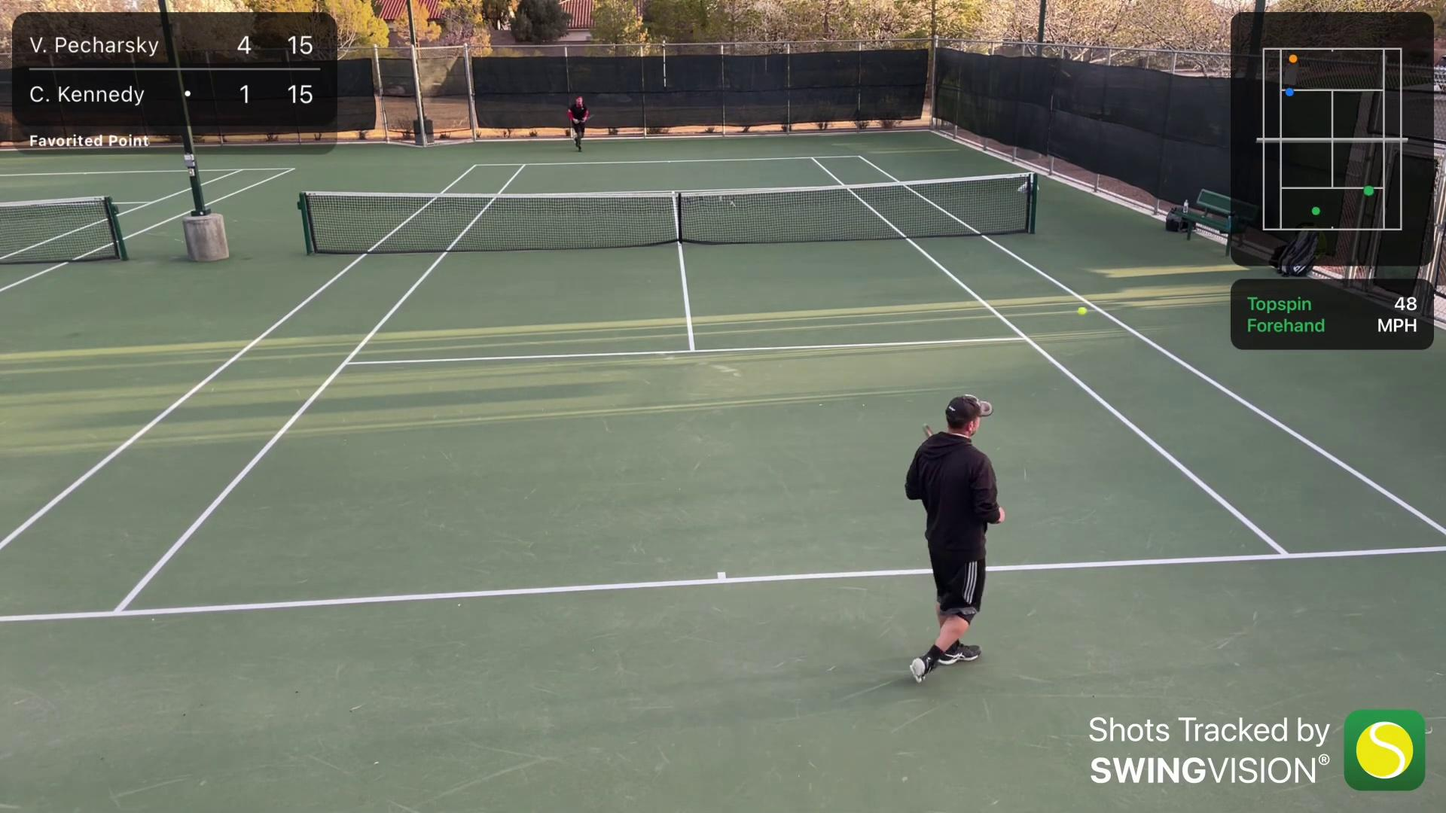ball: (1076, 306, 1088, 316)
